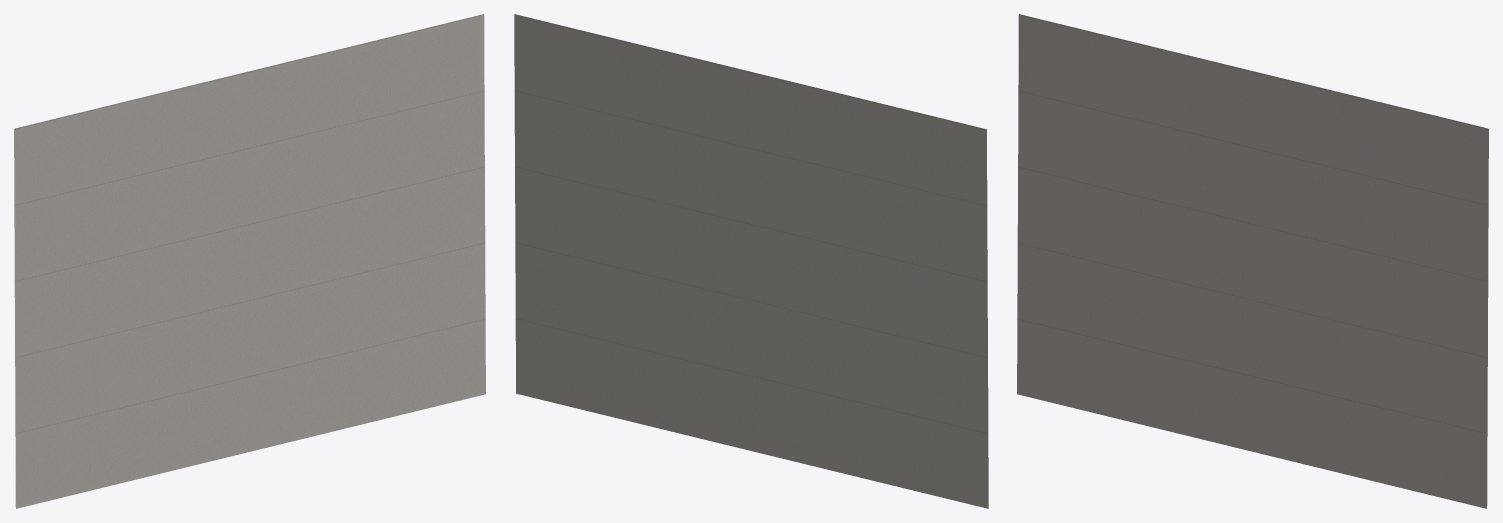
The model's file is kd_stage_135c43_2_13_bounded.glb.
3 renders of one model, left to right at view 1: azimuth 30°, elevation 25°; view 2: azimuth 150°, elevation 25°; view 3: azimuth 330°, elevation 25°, orthographic.
Visible parts, largest first — view 1: kd_stage_135c43_2_13_bounded; view 2: kd_stage_135c43_2_13_bounded; view 3: kd_stage_135c43_2_13_bounded.
Part boxes in pixels (left/top/right/bottom): kd_stage_135c43_2_13_bounded: left=14, top=14, right=485, bottom=508; kd_stage_135c43_2_13_bounded: left=514, top=14, right=988, bottom=508; kd_stage_135c43_2_13_bounded: left=1017, top=14, right=1488, bottom=508.
Bounding box in the file's own units: 4.46 × 3.43 × 0.0298.
Materials: 1 (1 with a texture image).
